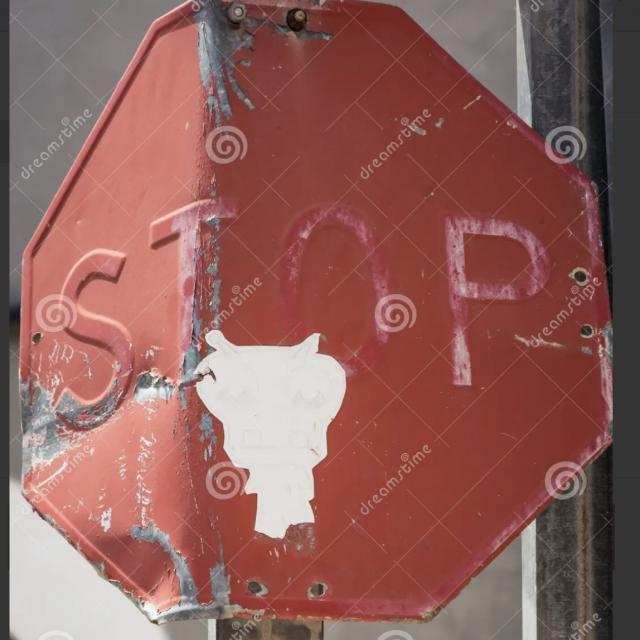Bending: (0, 0, 640, 640)
Damage: (0, 0, 640, 640)
Wear: (0, 0, 640, 640)
